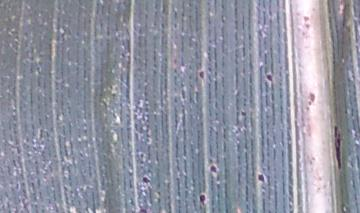tarspot: (330, 122, 345, 174), (195, 189, 211, 210), (206, 161, 220, 180), (194, 66, 208, 85), (254, 169, 269, 186), (262, 69, 276, 87), (139, 173, 153, 186), (135, 205, 154, 213), (238, 108, 248, 121)
